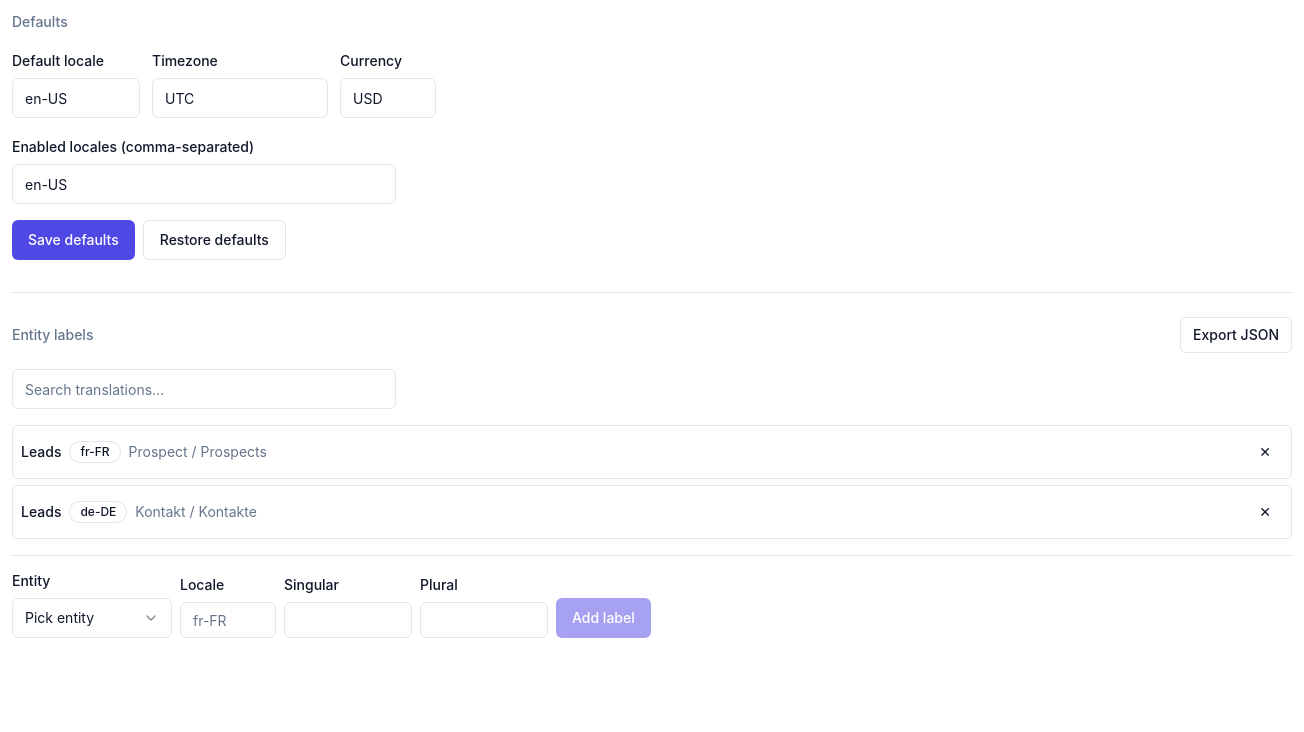
LocalizationSettings › filters entity labels by search
The width and height of the screenshot is (1304, 732).
Expected: the text "Prospect / Prospects" is shown, x1=129 y1=442 x2=267 y2=462
Type "kontakt" into the field labelled "Search translations" at (204, 389), box x1=12 y1=369 x2=396 y2=409
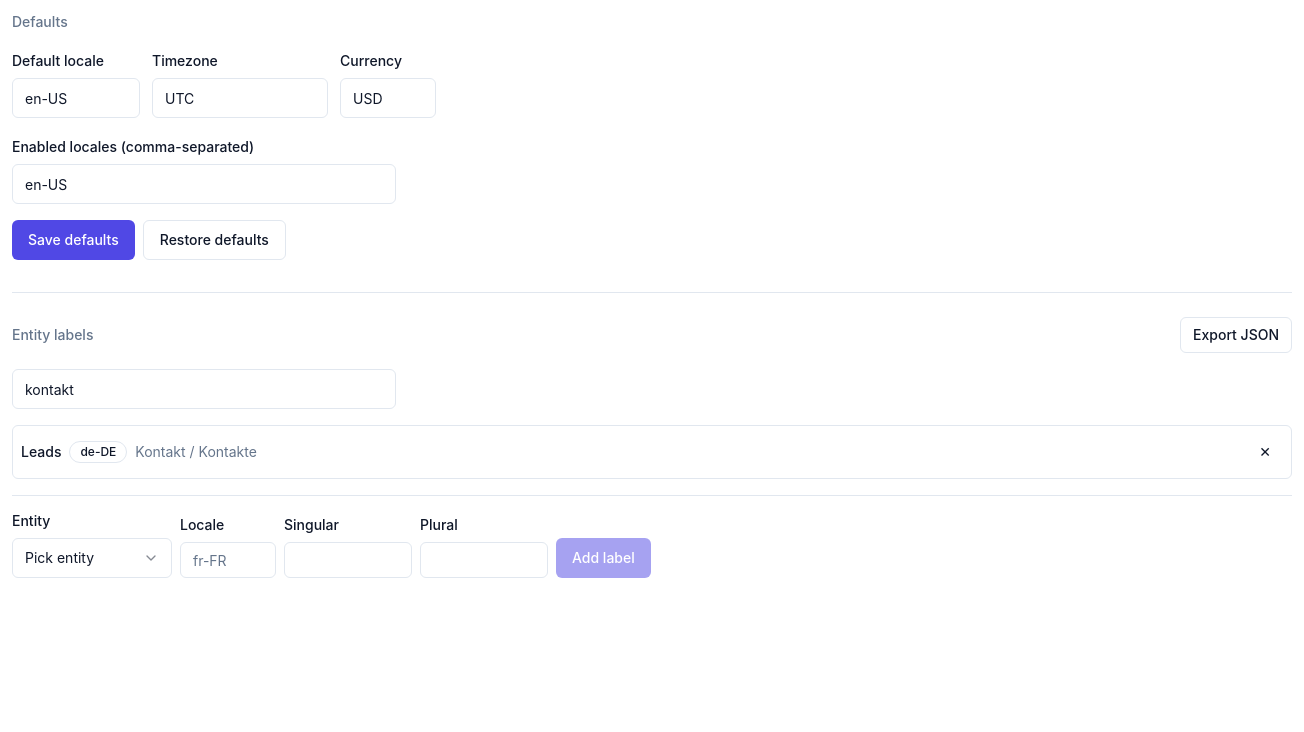
Expected: the text "Kontakt / Kontakte" is shown, x1=135 y1=442 x2=257 y2=462
Result: the text "Prospect / Prospects" is gone
